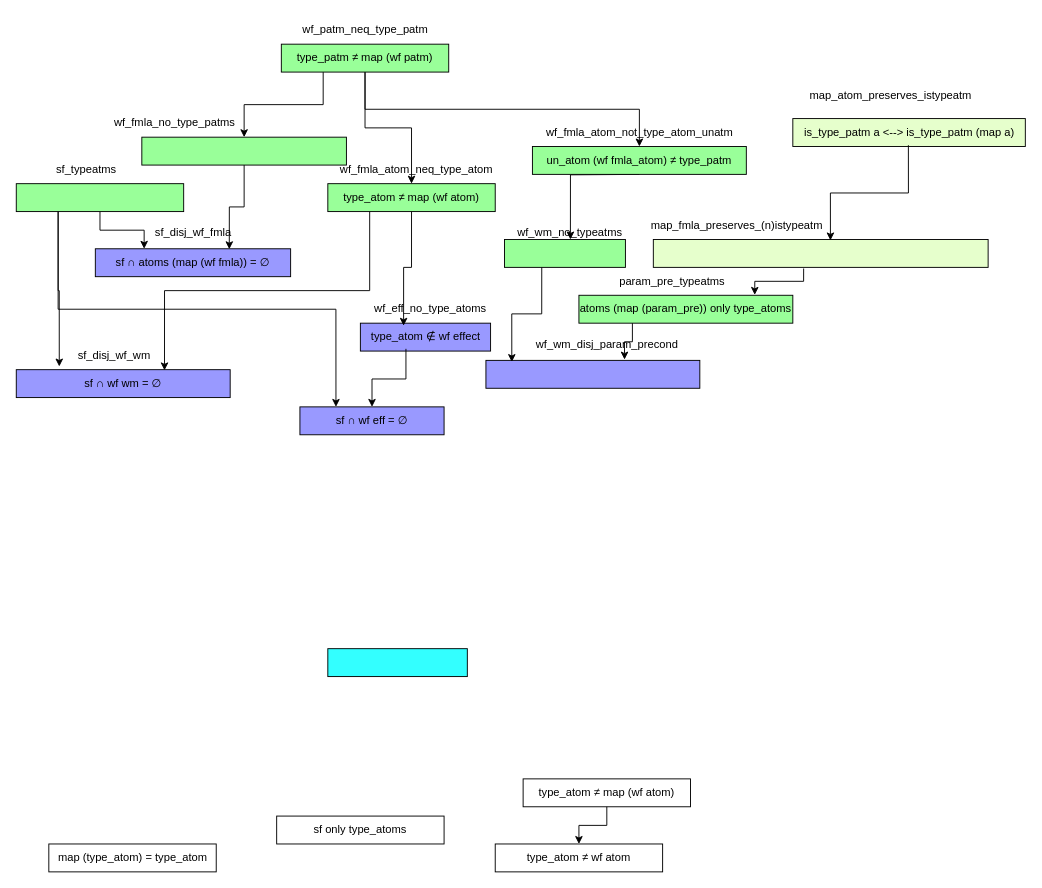
The diagram is 1042 pixels wide and 888 high, and some of its shapes have lost their labels. Here are the shapes that lost their labels. From the top down, the centre of each, then its label:
At [243,150]: "type_predatom ∉ atoms (map (wf φ))".
At [99,197]: "sf only typeatoms".
At [564,253]: "wf wm no typeatoms".
At [820,253]: "atoms F all (n) type_patm ==> atoms (map F) all (n) type_patm".
At [592,373]: "wf wm ∩ atoms (map (type_pre)) = ∅".
At [397,662]: "sf ∩ map (wf effects) = ∅".
